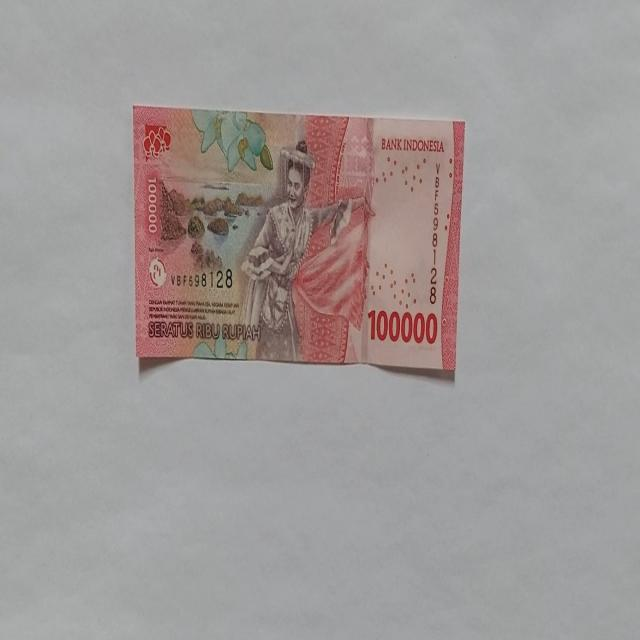seratus ribu rupiah: (132, 106, 466, 376), (240, 138, 354, 362)
